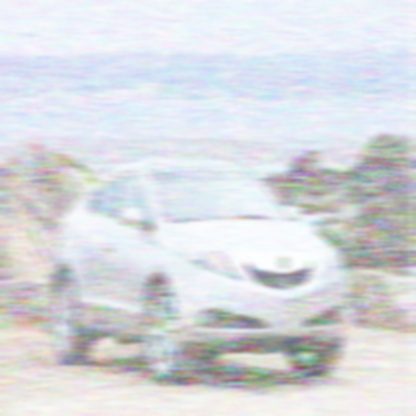Vehicle: (52, 159, 350, 384)
